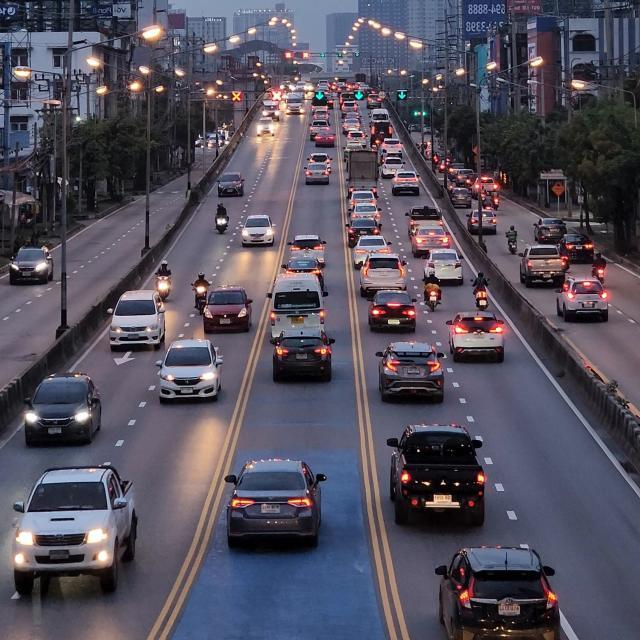Car: (11, 462, 138, 596), (434, 543, 560, 639), (223, 456, 327, 547), (23, 370, 102, 446), (154, 338, 224, 402), (8, 245, 53, 284)
Motorcycle: (214, 211, 229, 233)
Pickup: (385, 421, 486, 526)
